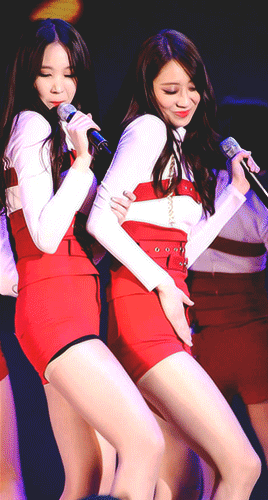person: (91, 22, 249, 387), (21, 17, 103, 422)
